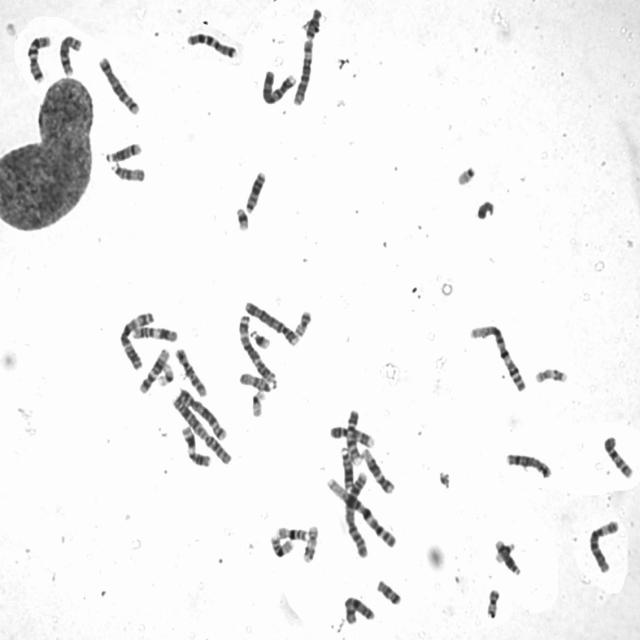A1: (323, 474, 399, 550), (467, 320, 528, 394)
A2: (170, 388, 233, 467), (342, 467, 370, 559)
A3: (235, 311, 278, 384), (116, 308, 155, 370)
B4: (242, 298, 300, 347), (259, 67, 299, 105)
B5: (172, 387, 229, 443), (96, 52, 141, 116)
C10: (172, 345, 208, 398), (600, 432, 636, 480)
C11: (179, 423, 211, 468), (128, 323, 180, 343)
C12: (358, 444, 396, 496), (137, 345, 171, 394)
C6: (586, 516, 622, 574), (290, 36, 314, 107)
C7: (185, 29, 239, 60), (25, 31, 52, 84)
C8: (504, 449, 553, 479), (57, 32, 83, 77)
C9: (326, 421, 377, 449), (344, 406, 363, 466)
D13: (243, 167, 268, 215), (337, 444, 355, 489)
D14: (492, 536, 523, 576), (104, 139, 144, 163)
D15: (107, 159, 147, 183), (237, 369, 273, 393)
E16: (267, 532, 295, 558), (273, 523, 311, 542)
E17: (300, 522, 320, 564), (532, 364, 570, 385)
E18: (374, 576, 403, 606), (303, 5, 323, 40)
F19: (249, 388, 267, 418), (155, 362, 175, 388)
F20: (291, 307, 313, 338), (484, 585, 502, 619)
G21: (247, 326, 272, 349), (233, 204, 250, 232)
G22: (454, 160, 478, 187), (494, 543, 515, 564)
X: (342, 592, 377, 626)
